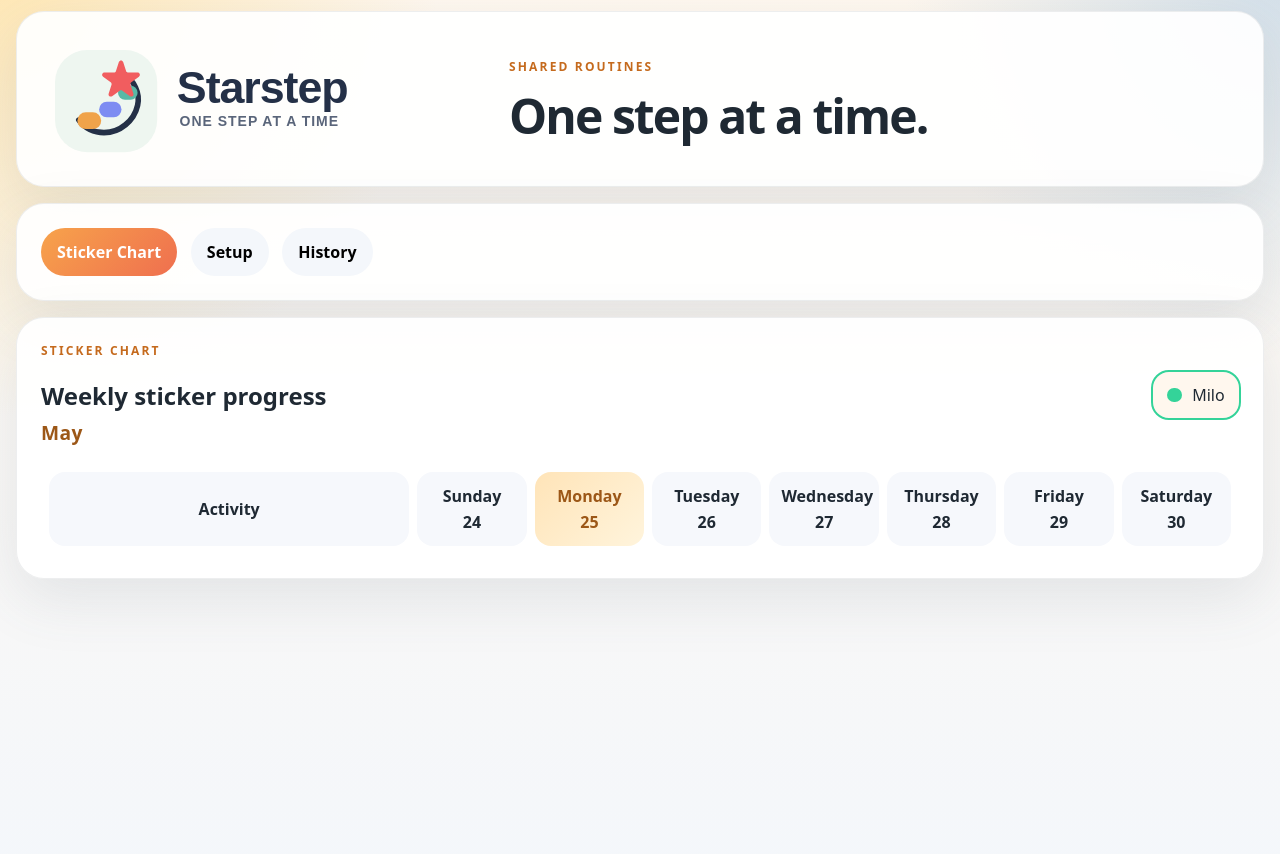
Test: App › blocks saving a task when no scheduled day is selected and explains the requirement
The image size is (1280, 854).
Click the button "Setup" at {"x": 230, "y": 252}, box [191, 228, 269, 276]
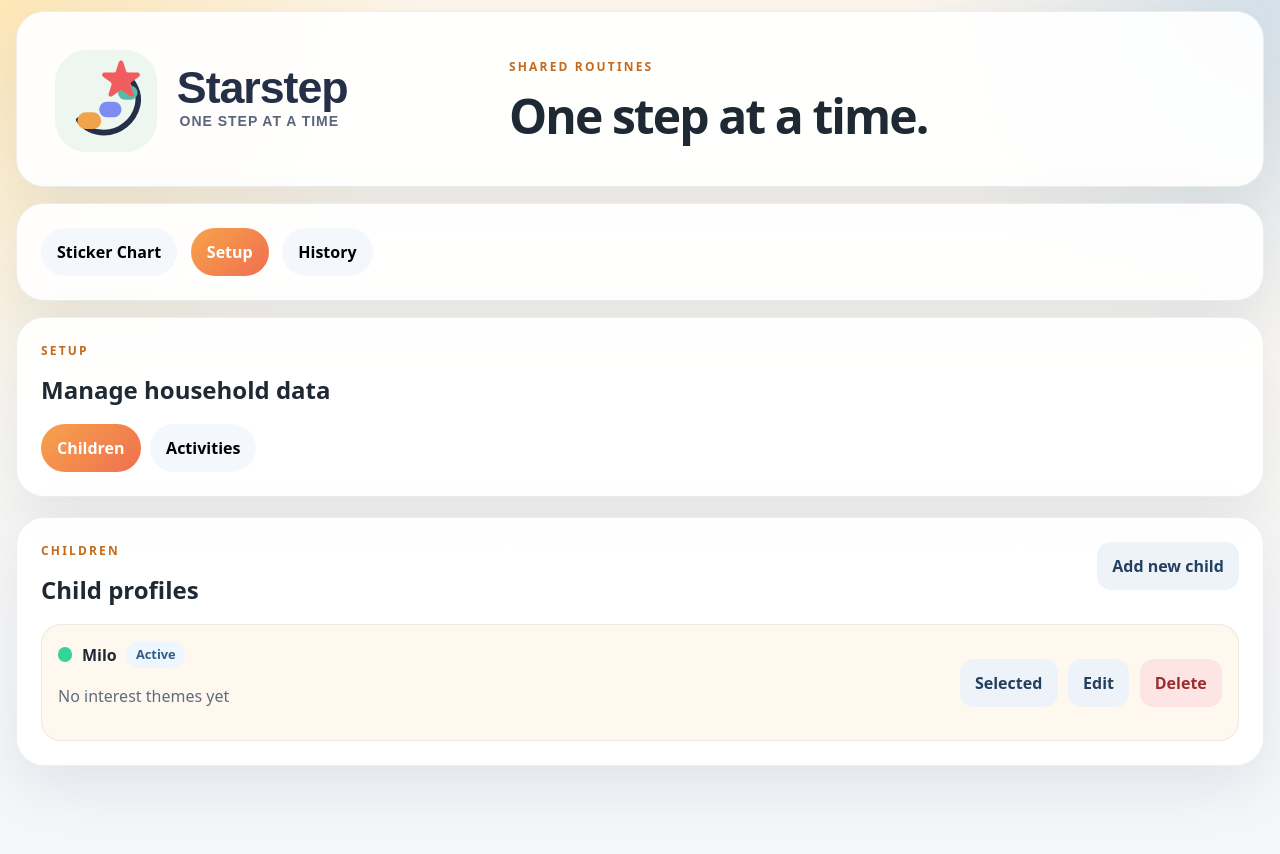
Click the button "Activities" at {"x": 203, "y": 448}, box [150, 424, 256, 472]
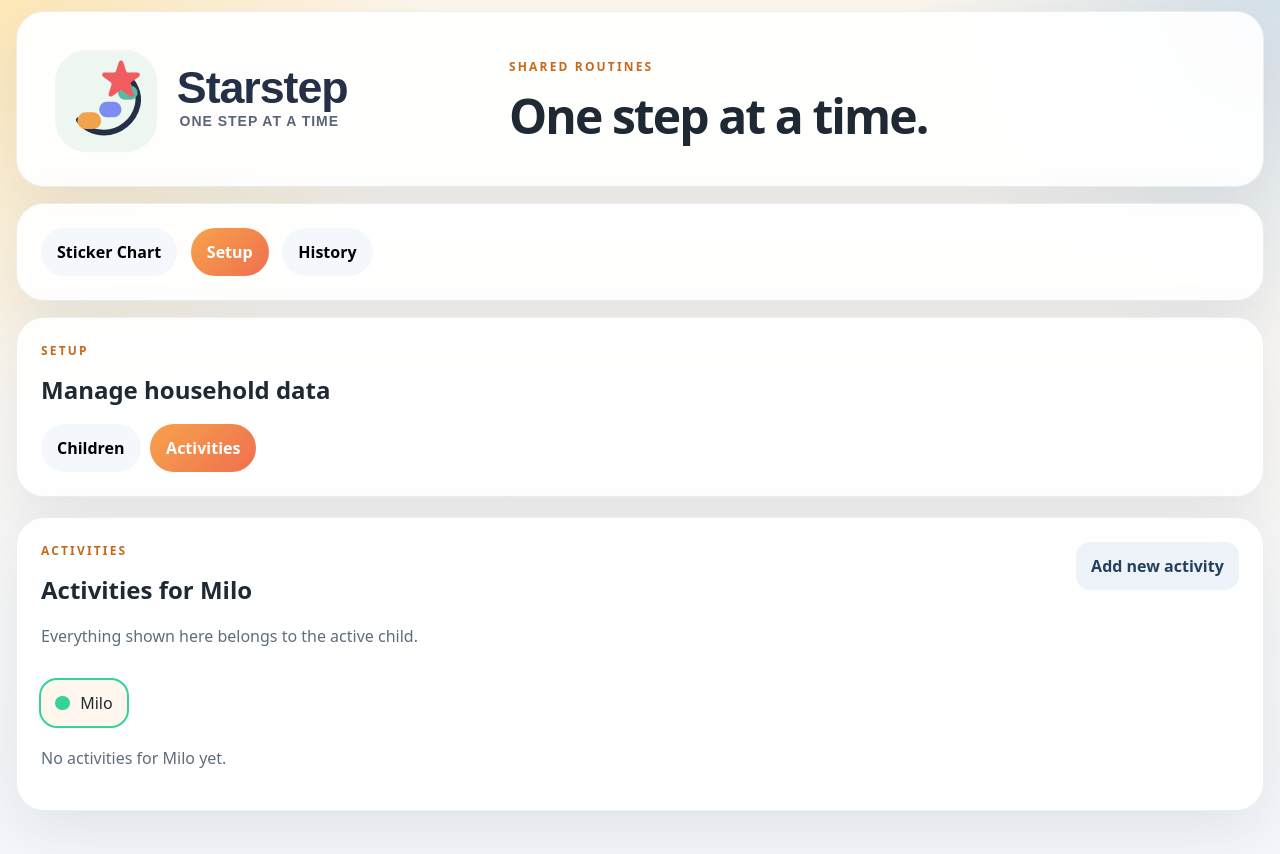
Click the button "Add new activity" at {"x": 1157, "y": 566}, box [1076, 542, 1239, 590]
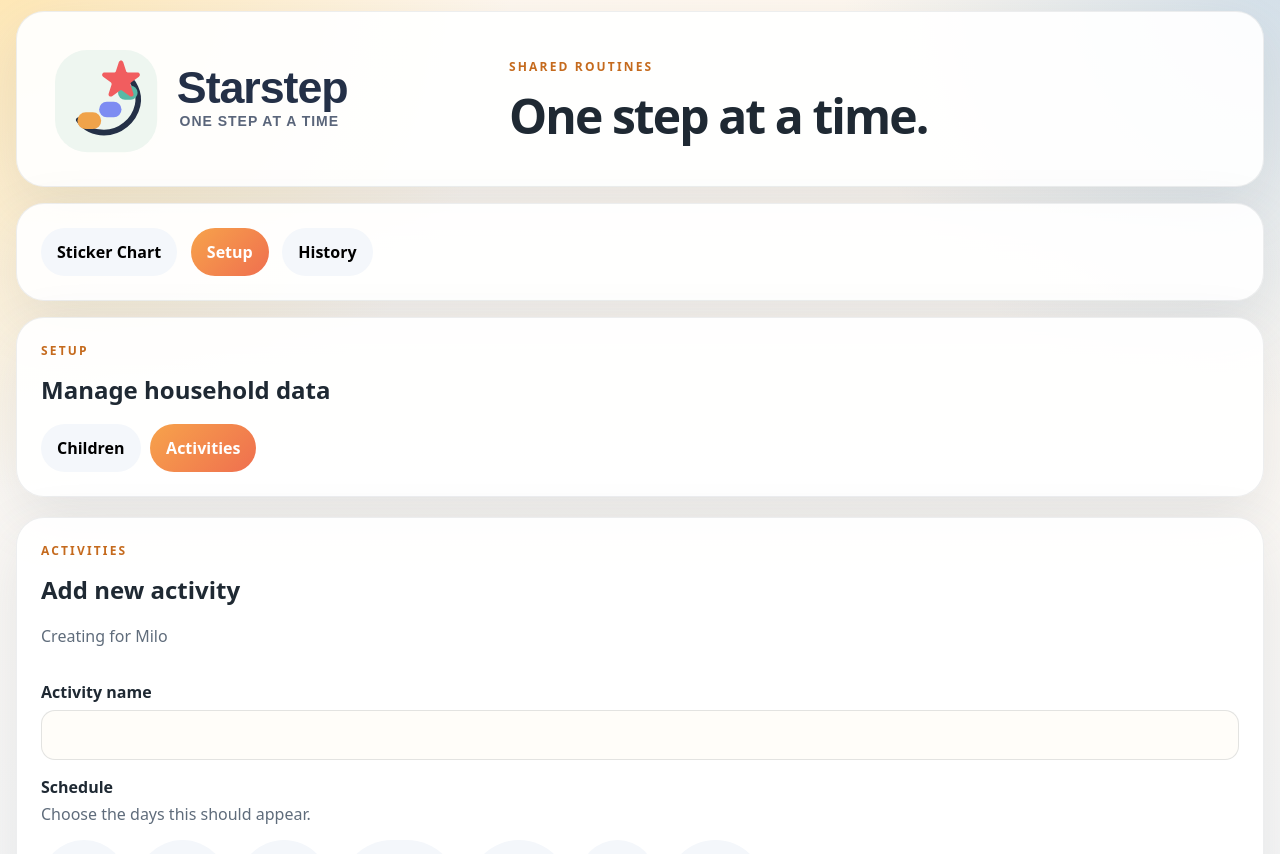
Type "Carry napkins" into the field labelled "Activity name" at {"x": 640, "y": 735}, box [41, 710, 1239, 760]
(page scrolled)
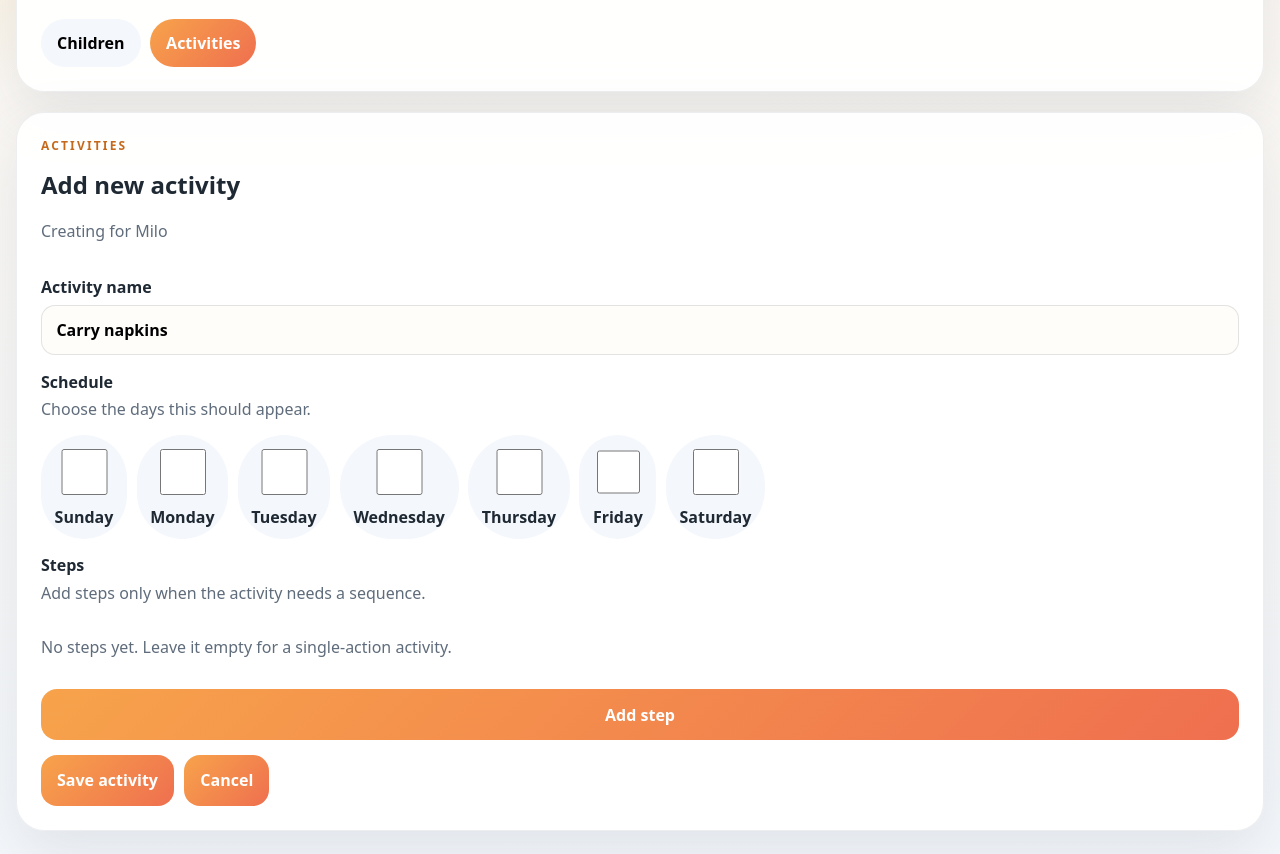
Click the button "Save activity" at {"x": 108, "y": 780}, box [41, 755, 174, 806]
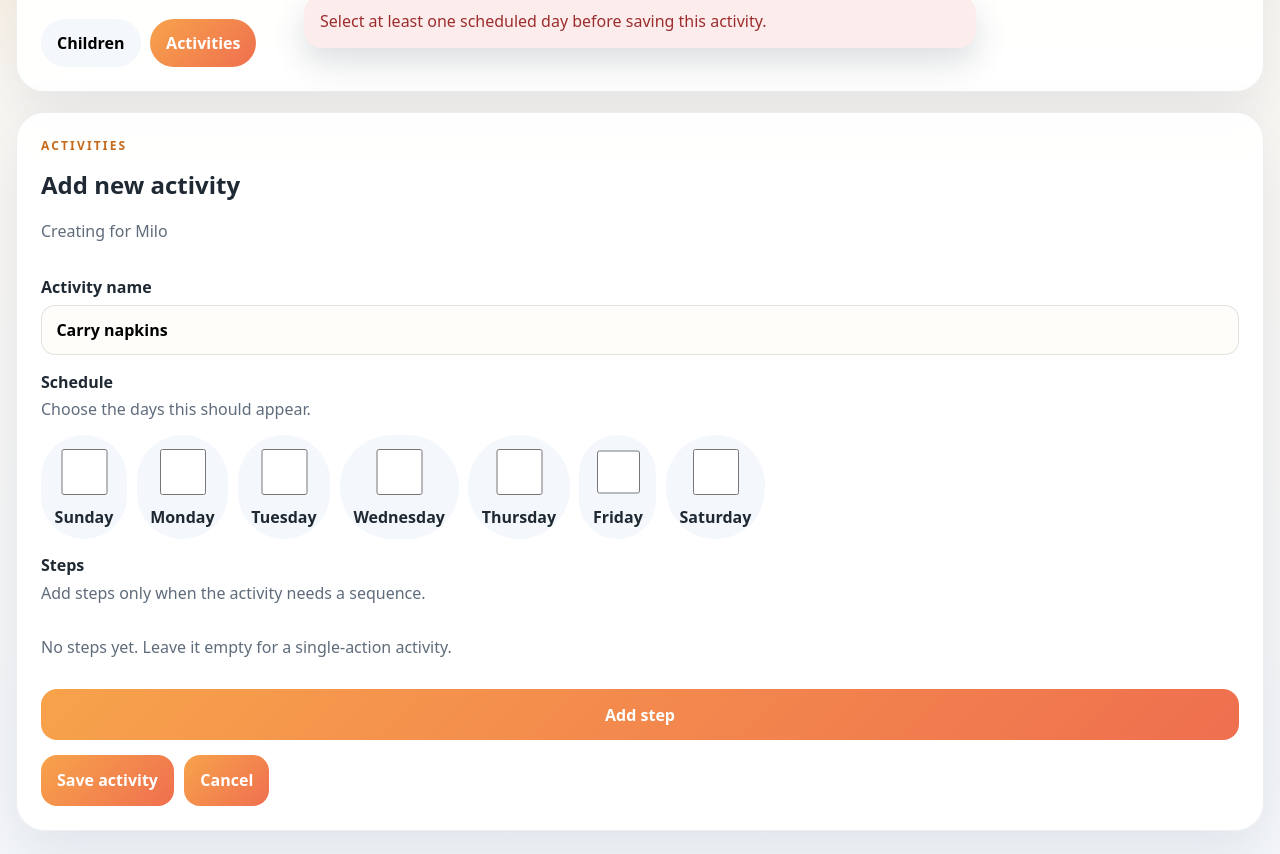
Expected: the text "Select at least one scheduled day before saving this activity" is shown, [320, 10, 767, 32]
